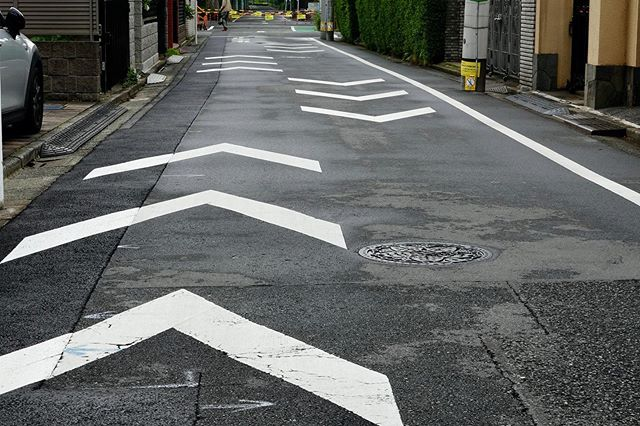street: (9, 17, 629, 416)
